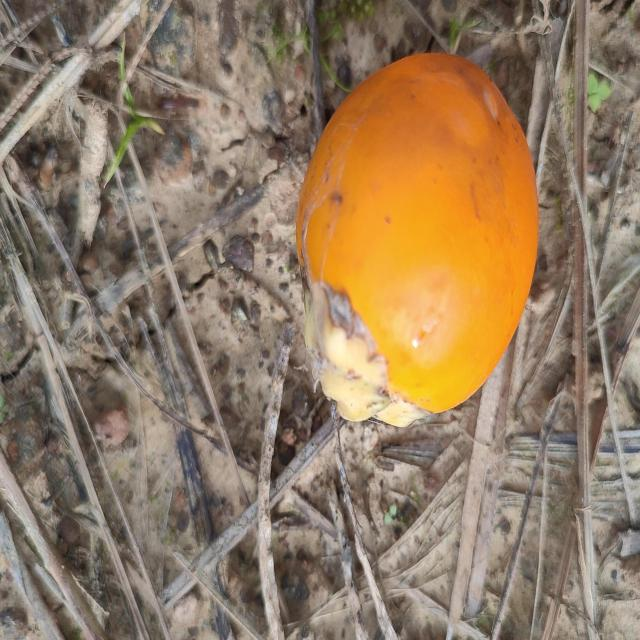good: (295, 52, 540, 422)
